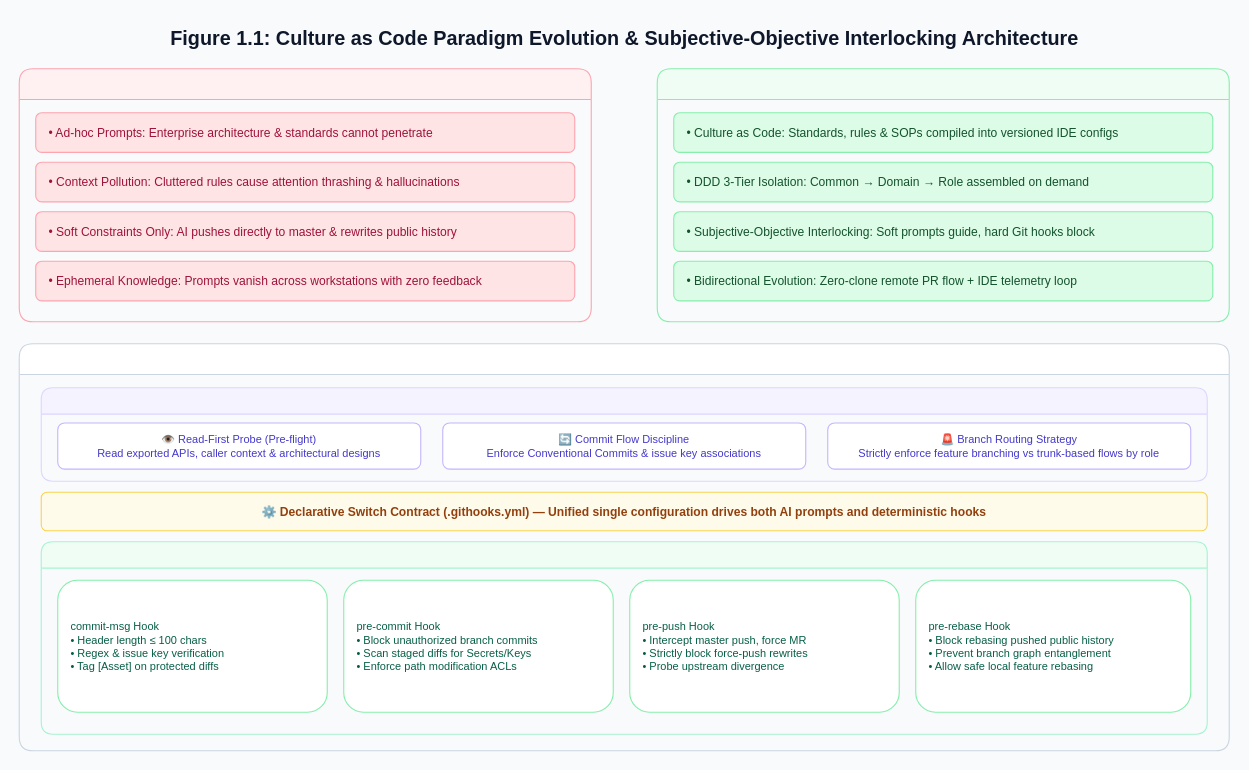
The diagram is 1249 pixels wide and 770 high, and some of its shapes have lost their labels. Each missing label, with the box of its shape:
[Lower Layer: Objective Hard Guardrails · Local Deterministic Git Hooks]: (40, 541, 1207, 734)
[Upper Layer: Subjective Soft Rules · Rules Injected into AI Context]: (40, 387, 1207, 481)
✅ Enterprise AI Scaffold Paradigm (Culture as Code): (656, 68, 1229, 322)
❌ Unstructured Human-AI Chat (High Friction & Entropy): (18, 68, 591, 322)
🔄 Subjective-Objective Interlocking Architecture: (18, 343, 1229, 751)
